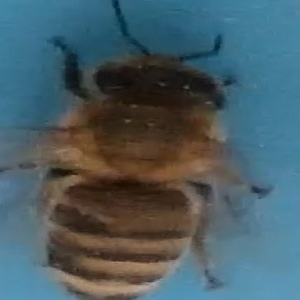bee: (7, 1, 275, 300)
